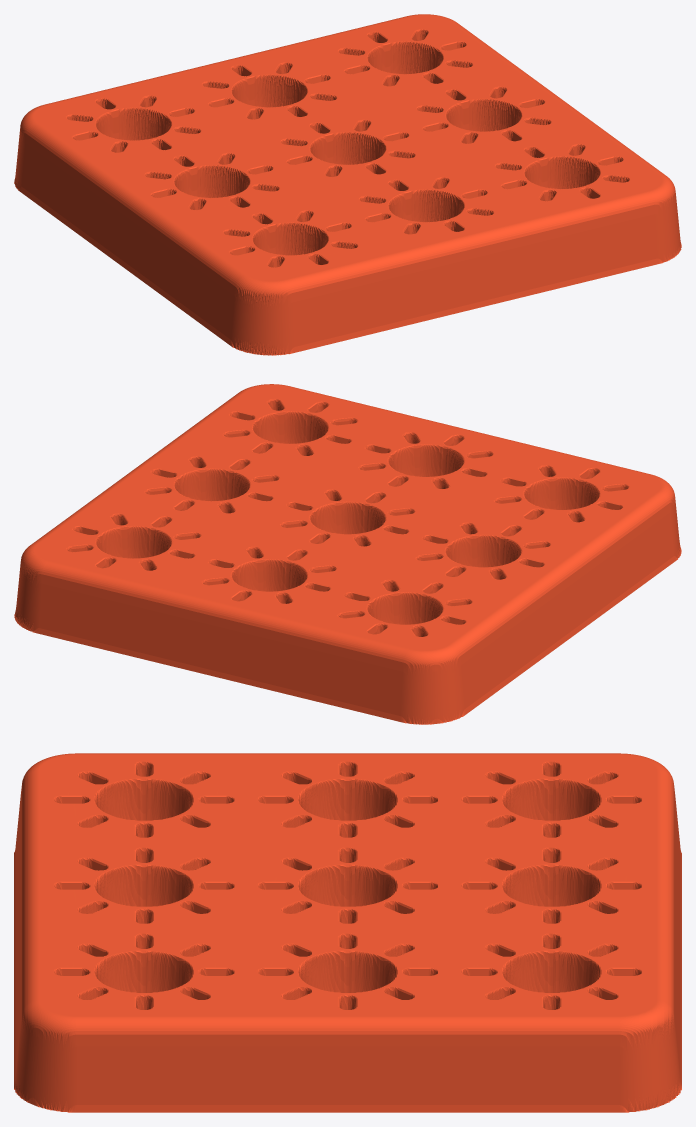
File: mold.glb
3 views of the same model, one above another, from view 1: azimuth 30°, elevation 25°; view 2: azimuth 150°, elevation 25°; view 3: azimuth 270°, elevation 25° (orthographic). The views are drawn at different scales.
Visible parts, largest first — view 1: geometry_0; view 2: geometry_0; view 3: geometry_0.
Part boxes in pixels (<box>): geometry_0: <box>14,14,681,355</box>; geometry_0: <box>14,384,681,724</box>; geometry_0: <box>14,753,681,1112</box>.
Bounding box in the file's own units: 0.0964 × 0.0136 × 0.0964.
